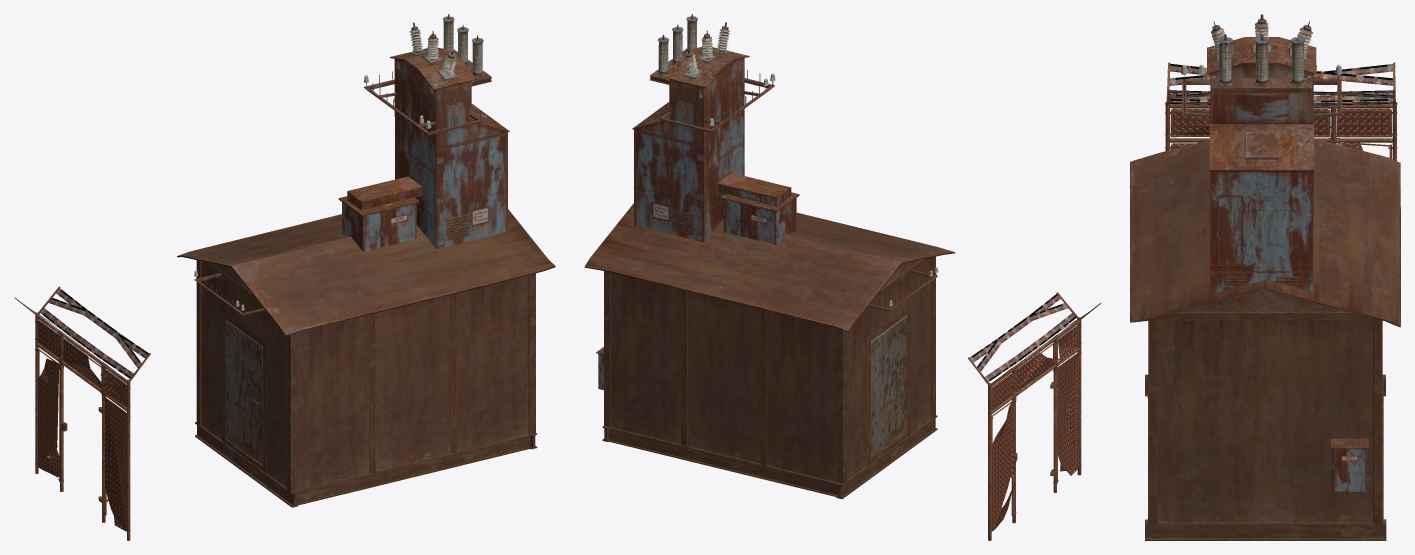
Rendered from power_sub_small_1-mid.glb.
3 renders of one model, left to right at view 1: azimuth 30°, elevation 25°; view 2: azimuth 150°, elevation 25°; view 3: azimuth 270°, elevation 25°, orthographic. The views are drawn at different scales.
Visible parts, largest first — view 1: substation_d_LOD0, substation_a_LOD0, chainlink_fence_3x3_gate_LOD0; view 2: substation_d_LOD0, substation_a_LOD0, chainlink_fence_3x3_gate_LOD0; view 3: substation_d_LOD0, substation_a_LOD0, chainlink_fence_3x3_gate_LOD0.
Boxes of the visible parts, x1,y1,x2,y2 form: substation_d_LOD0: (177,209,555,490); substation_a_LOD0: (194,14,537,507); chainlink_fence_3x3_gate_LOD0: (14,286,150,540); substation_d_LOD0: (584,203,955,482); substation_a_LOD0: (596,14,938,499); chainlink_fence_3x3_gate_LOD0: (968,292,1101,540); substation_d_LOD0: (1130,138,1400,522); substation_a_LOD0: (1145,14,1386,540); chainlink_fence_3x3_gate_LOD0: (1165,62,1397,160).
Size of the model in its own units: 8.07 by 7.05 by 3.5.
6 materials, 6 textured.
